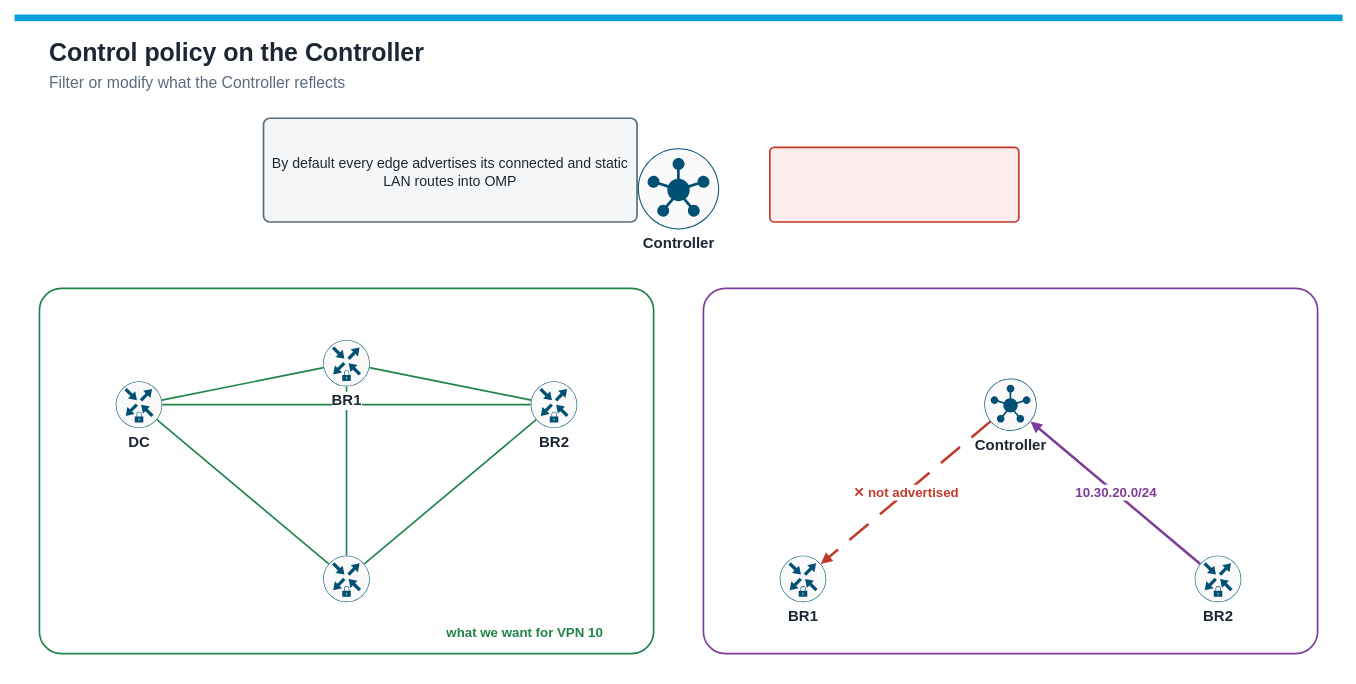
Some shapes in this 1356 by 684 pixel diagram are drawn without their labels. The shapes that lost their labels are listed below. From the top down, each one's box as (x1, y1, x2, y2) in pixels, then its label:
(769, 146, 1019, 222): control policy filter / modify routes
(38, 287, 654, 654): No control policy → everything reflected → full mesh
(702, 287, 1318, 654): VPN 20 : hide branch guest networks from other branches
(322, 555, 370, 602): BR3
